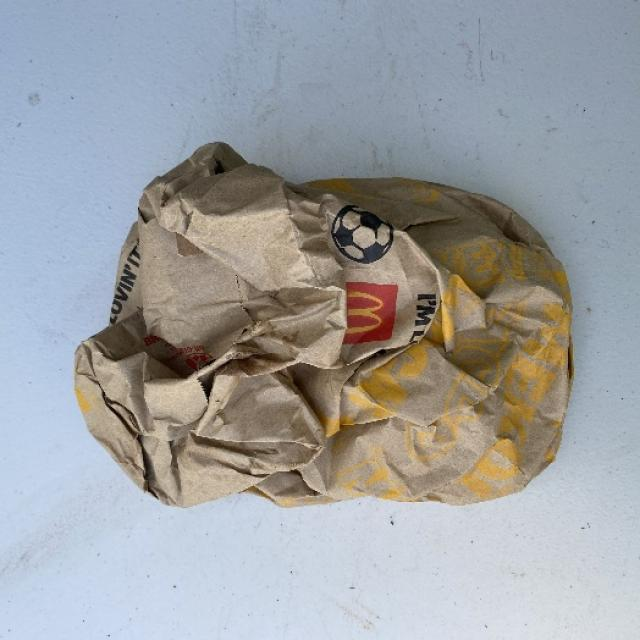inorganic: (73, 138, 577, 507)
